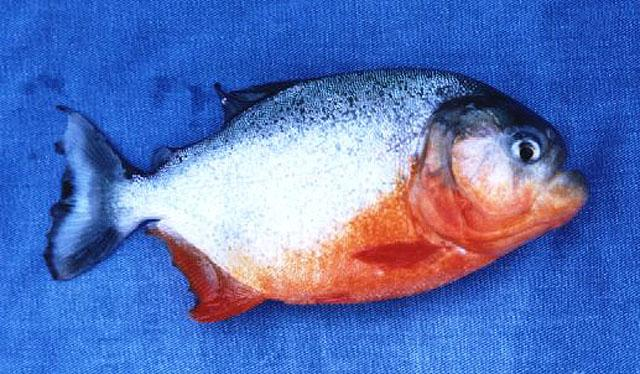Mulut: (506, 121, 606, 239)
Sirip Anal: (143, 210, 269, 346)
Sirip Dada: (342, 229, 454, 287)
Sirip Ekor: (27, 90, 143, 302)
Sirip Perut: (303, 285, 373, 323)
Sirip Punggung: (140, 69, 318, 186)
